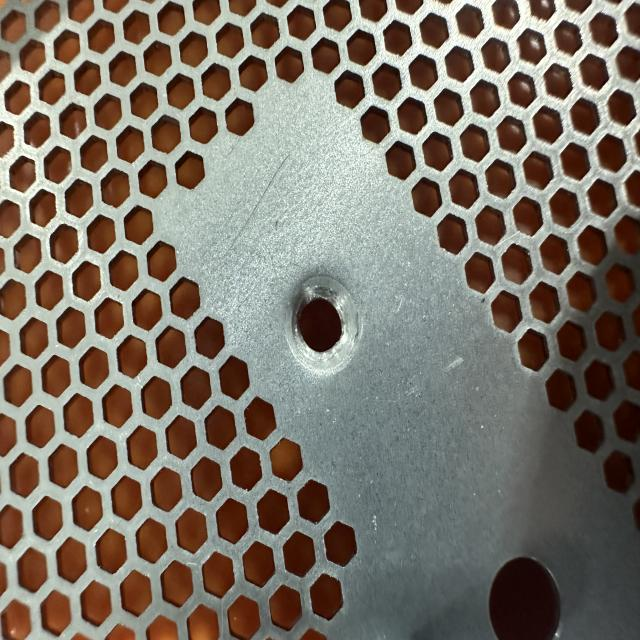Missing screw: (279, 267, 367, 379)
